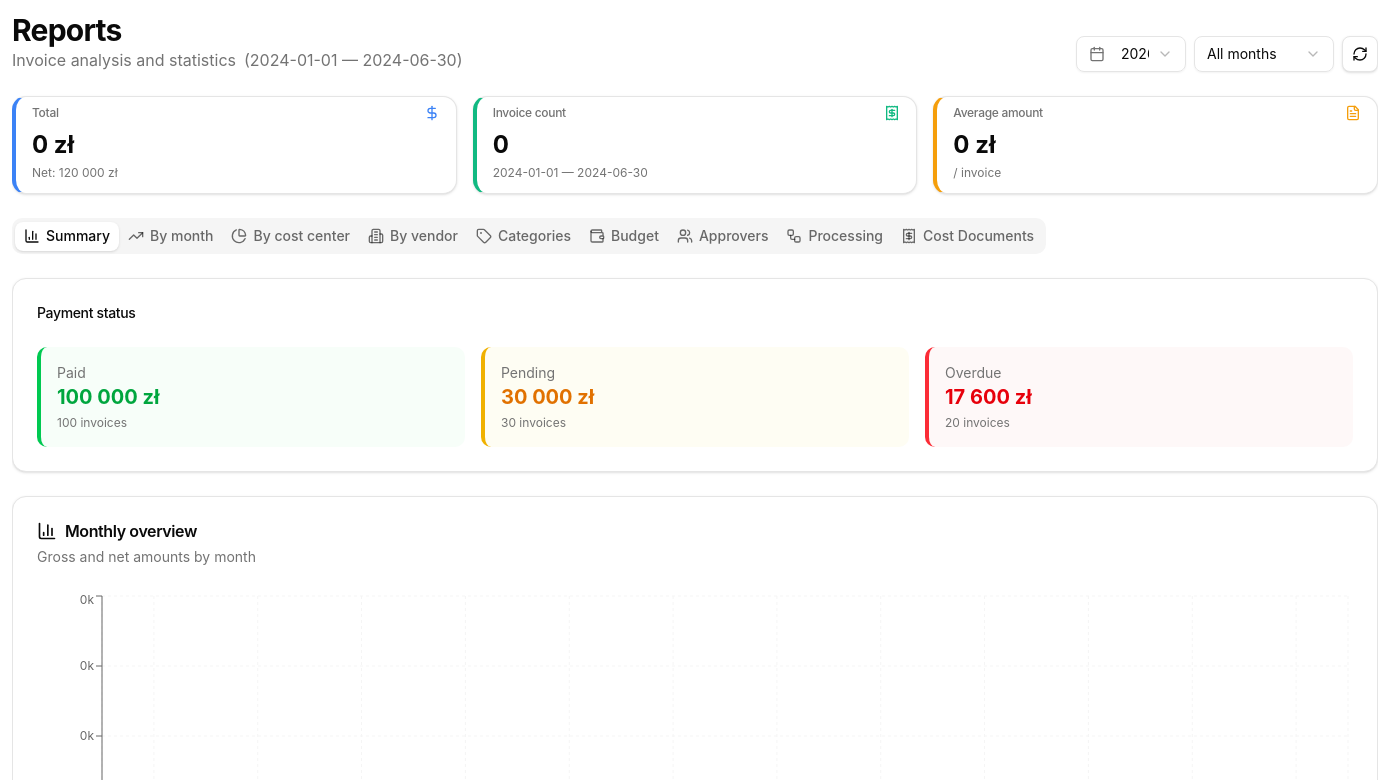
ReportsPage › switches to vendor tab and shows supplier table
Click the tab "By vendor": (413, 236) 359,222 -> 467,250
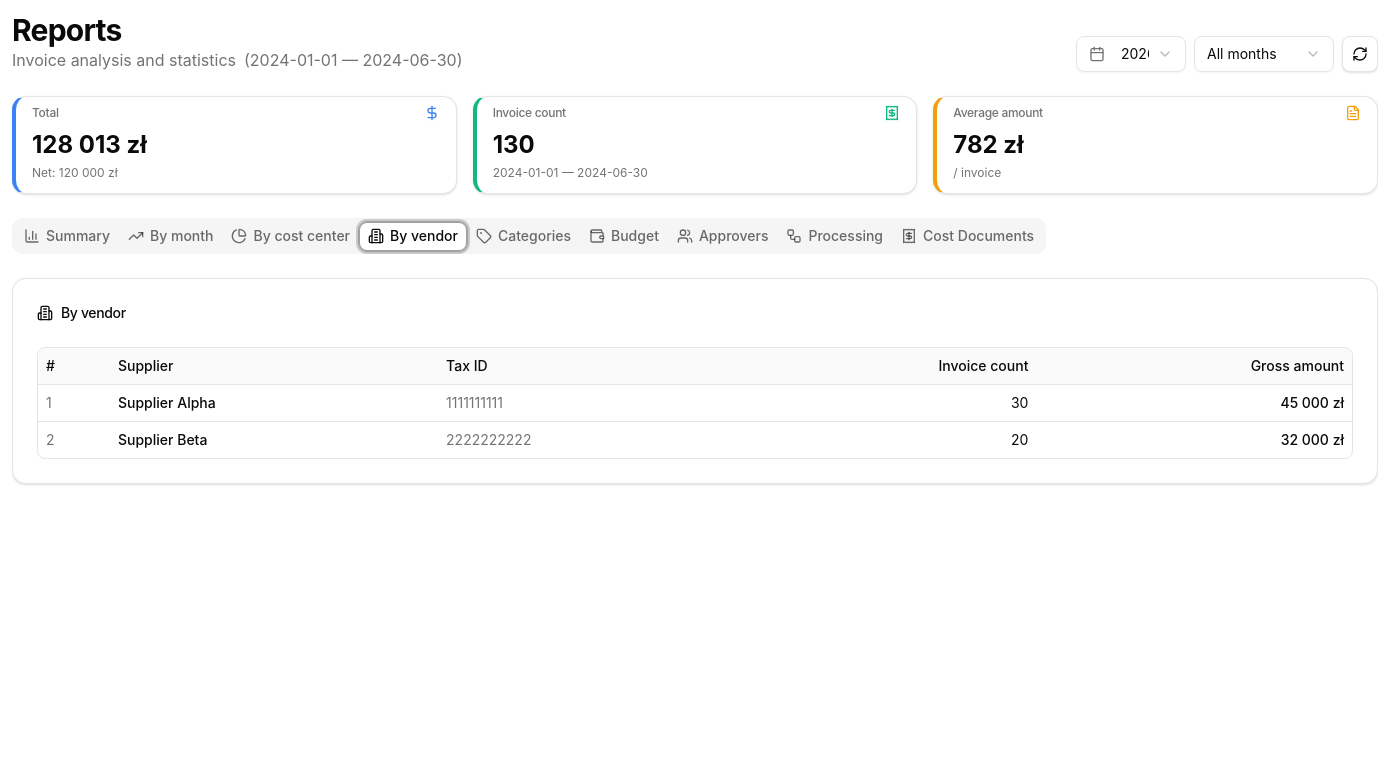
Now the text "Supplier Alpha" is shown, box 110,384 -> 438,422
Now the text "1111111111" is shown, box 438,384 -> 731,422
